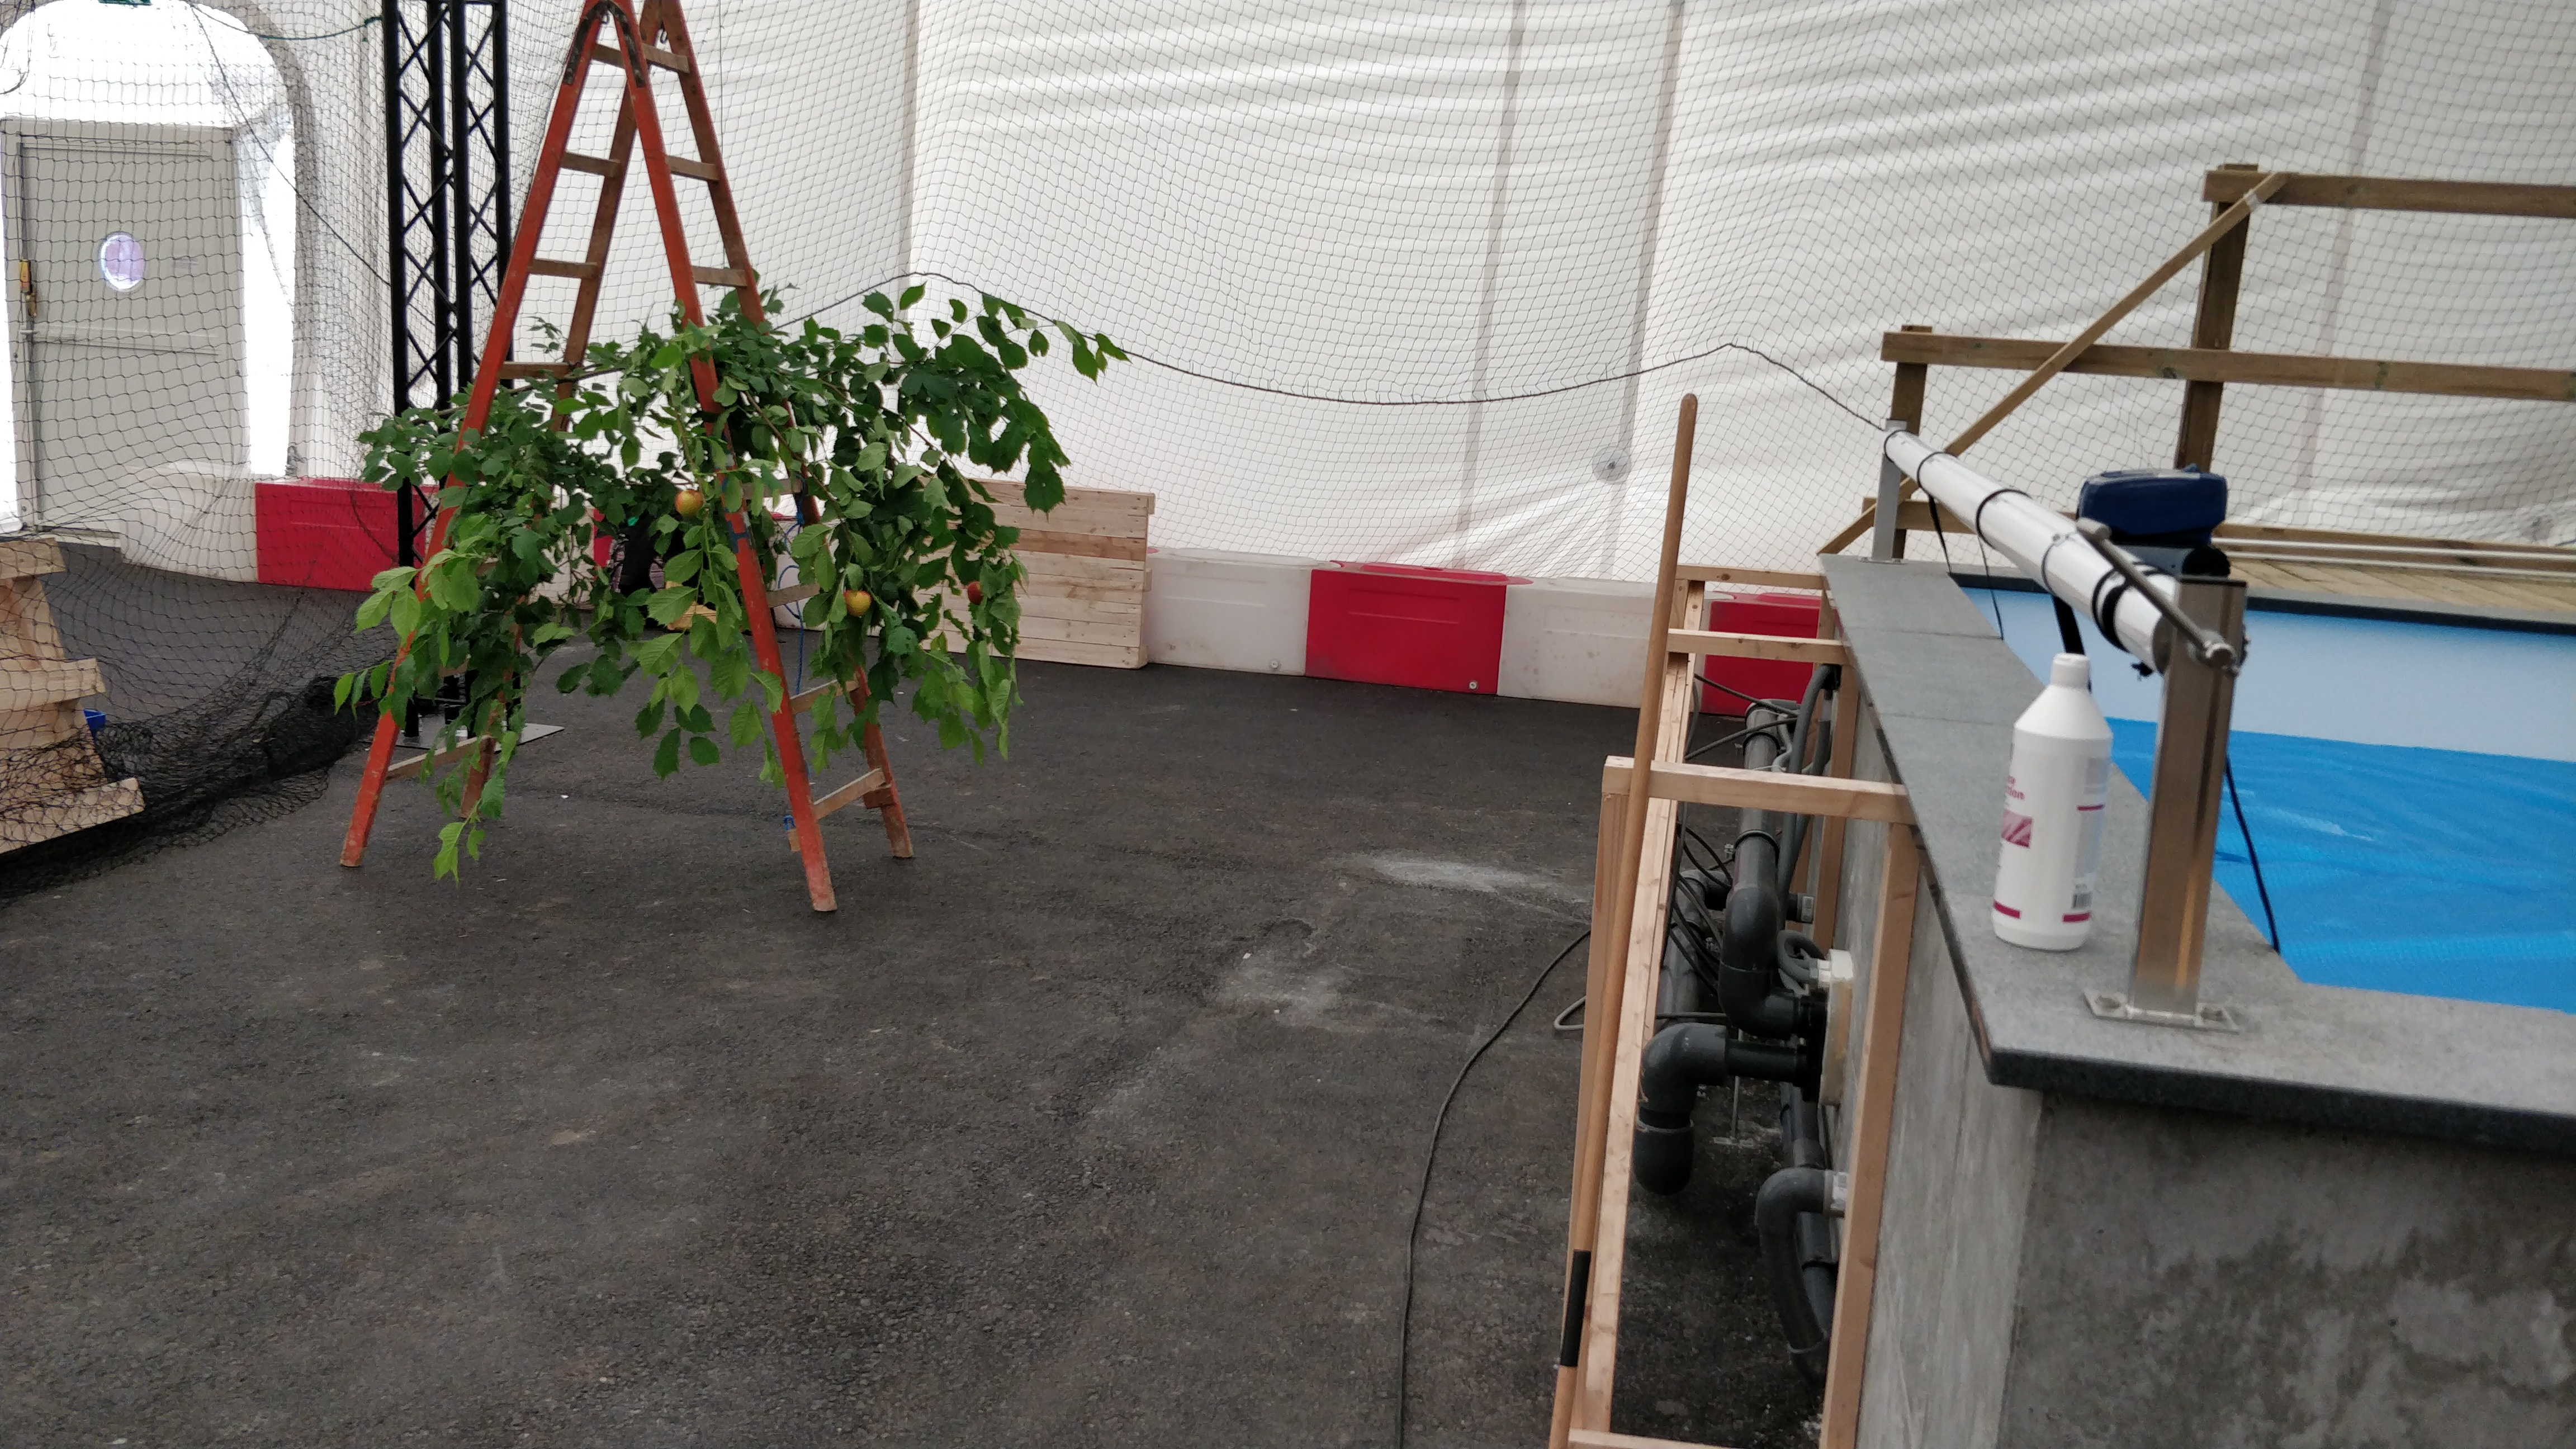apple: (842, 591, 870, 617), (676, 488, 702, 515), (968, 582, 984, 607)
